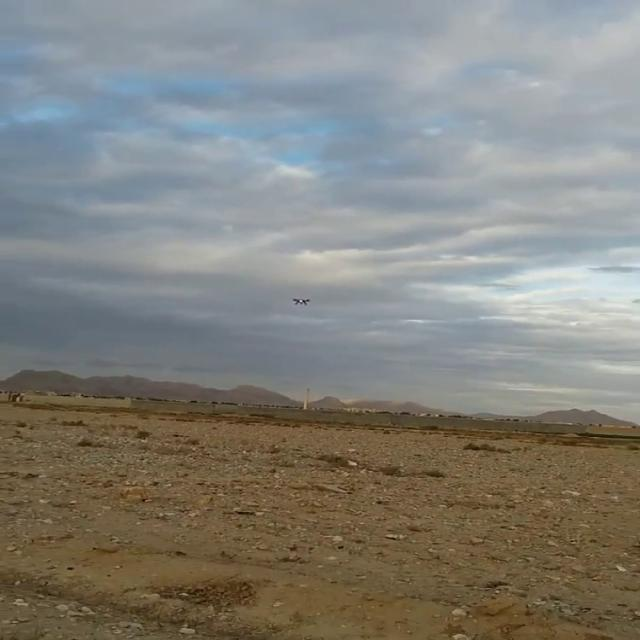drone: (290, 295, 312, 307)
